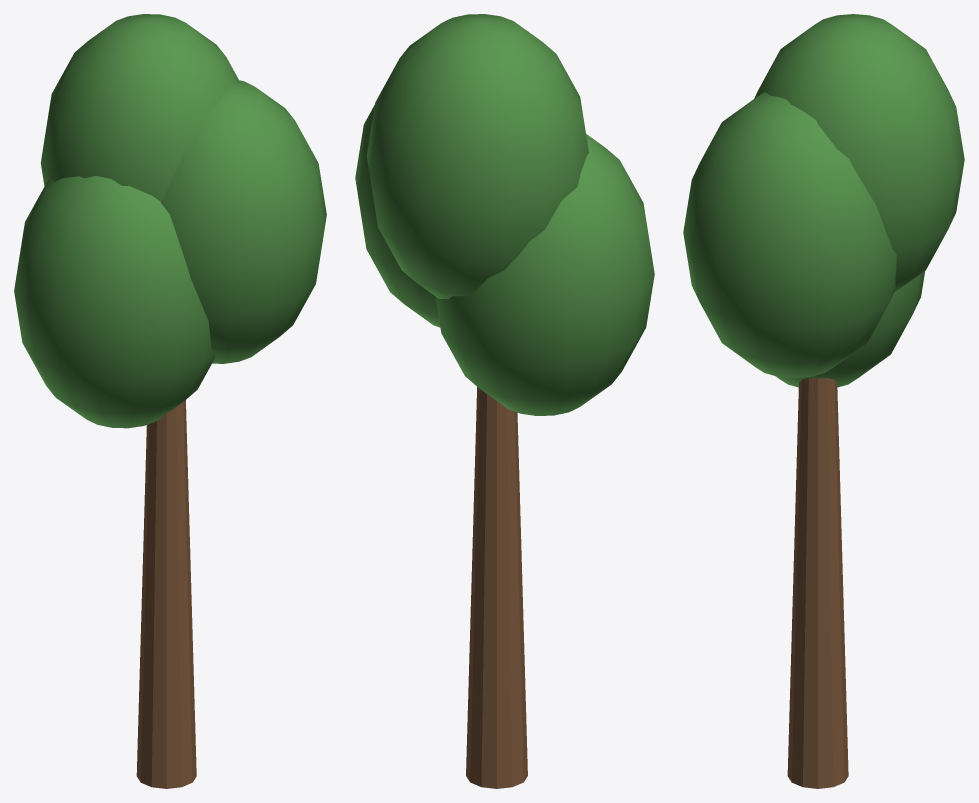
Rendered from tree.glb.
3 renders of one model, left to right at view 1: azimuth 30°, elevation 25°; view 2: azimuth 150°, elevation 25°; view 3: azimuth 270°, elevation 25°, orthographic. The views are drawn at different scales.
Visible parts, largest first — view 1: shaped-canopy, shaped-canopy.001, shaped-canopy.002, tapered-trunk; view 2: shaped-canopy.002, shaped-canopy, tapered-trunk, shaped-canopy.001; view 3: shaped-canopy.001, shaped-canopy.002, tapered-trunk, shaped-canopy.
Boxes of the visible parts, x1,y1,x2,y2 form: shaped-canopy: (14,176,214,428); shaped-canopy.001: (160,80,326,363); shaped-canopy.002: (40,14,238,201); tapered-trunk: (136,400,196,788); shaped-canopy.002: (366,14,588,299); shaped-canopy: (435,134,654,415); tapered-trunk: (466,387,527,788); shaped-canopy.001: (355,105,440,327); shaped-canopy.001: (683,92,896,378); shaped-canopy.002: (754,14,964,292); tapered-trunk: (787,378,848,788); shaped-canopy: (775,271,924,387).
Size of the model in its own units: 1.37 by 3.55 by 1.2.
